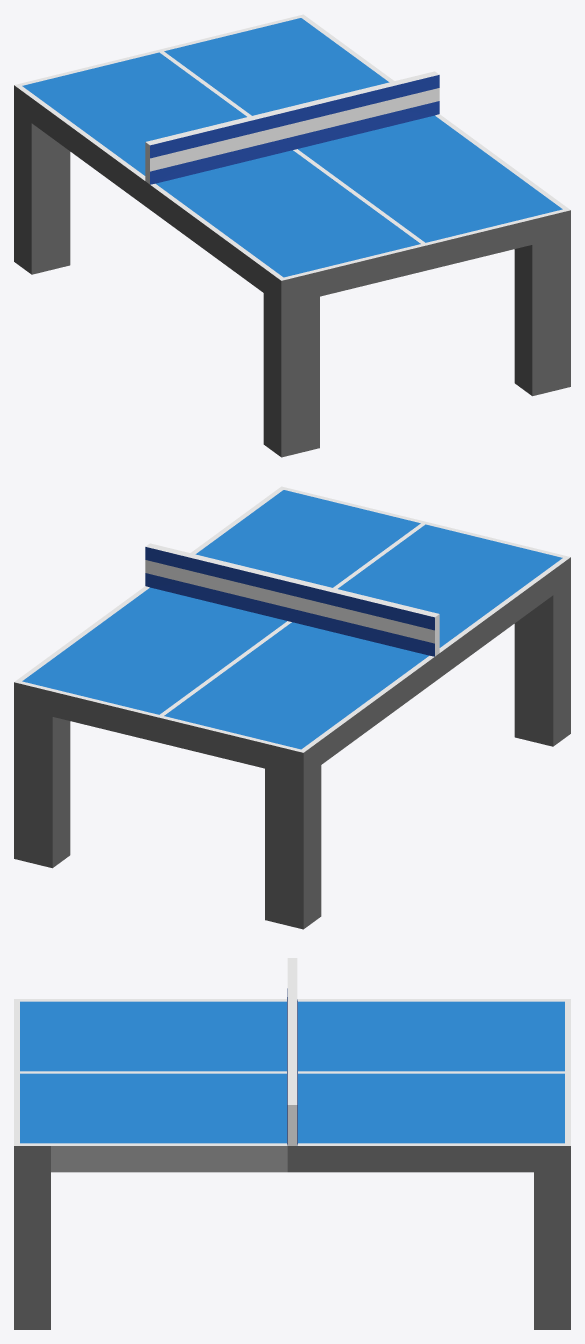
File: mesaPingPong.fbx
The picture shows the model from 3 angles, top to bottom: view 1: azimuth 30°, elevation 25°; view 2: azimuth 150°, elevation 25°; view 3: azimuth 270°, elevation 25°; orthographic projection. The views are drawn at different scales.
Parts seen in each view (by area): view 1: Cube; view 2: Cube; view 3: Cube.
Part boxes in pixels (x1,y1,x2,y2): Cube: (14, 14, 570, 457); Cube: (14, 486, 570, 929); Cube: (14, 958, 570, 1329).
Bounding box in the file's own units: 300 × 214 × 480.
